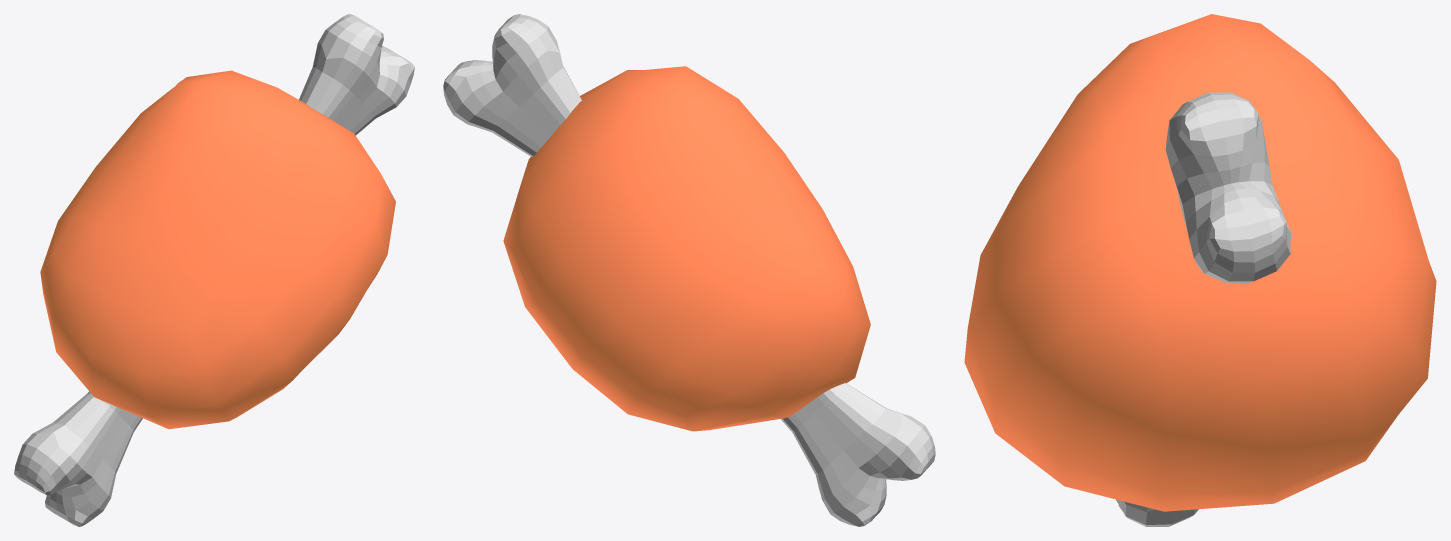
Rendered from MadeByJawns_ItchIO_GameItems_v1_0_1_Meat.glb.
3 views of the same model, side by side, from view 1: azimuth 30°, elevation 25°; view 2: azimuth 150°, elevation 25°; view 3: azimuth 270°, elevation 25° (orthographic). The views are drawn at different scales.
Visible parts, largest first — view 1: Meat; view 2: Meat; view 3: Meat.
Boxes of the visible parts, left/top/right/bottom form: Meat: left=14, top=14, right=414, bottom=526; Meat: left=443, top=14, right=935, bottom=526; Meat: left=964, top=14, right=1436, bottom=526.
Bounding box in the file's own units: 5.61 × 5.27 × 3.45.
